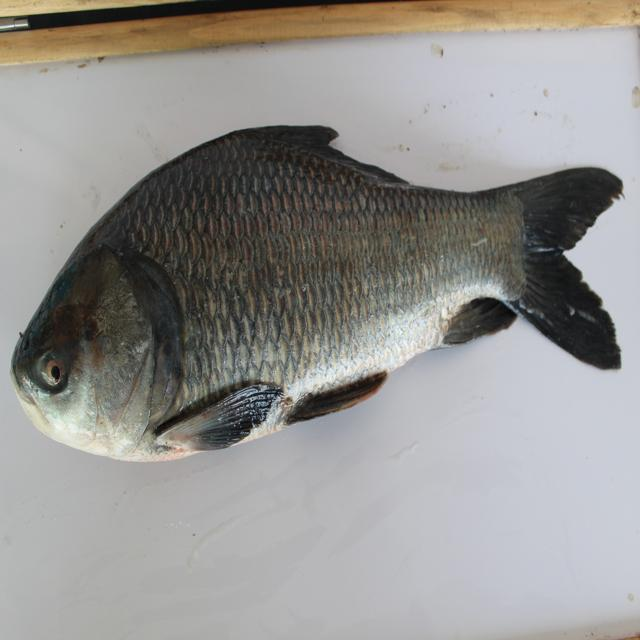Catla: (13, 119, 627, 467)
